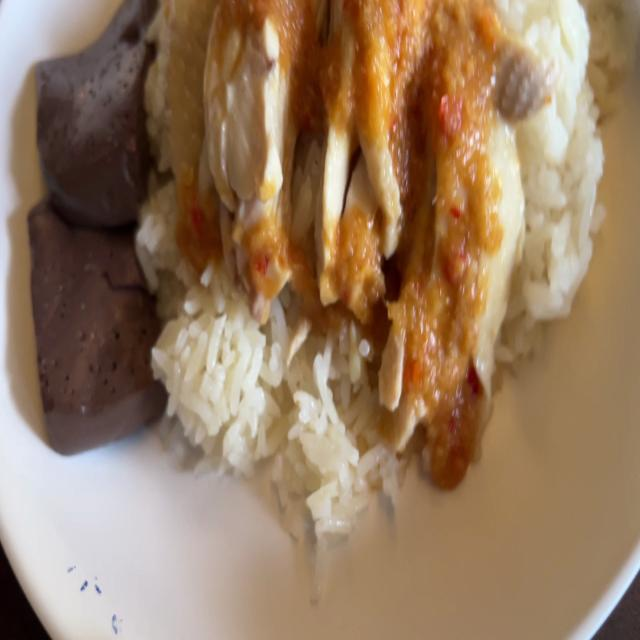boiled_chicken: (163, 0, 544, 454)
boiled_chicken_blood_jelly: (29, 183, 157, 438), (21, 0, 155, 223)
chicken_rice: (18, 0, 640, 570)
